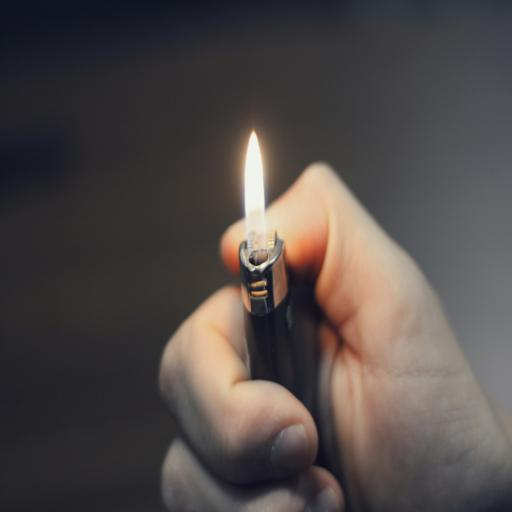fire: (237, 132, 272, 246)
lighter: (220, 114, 312, 406)
